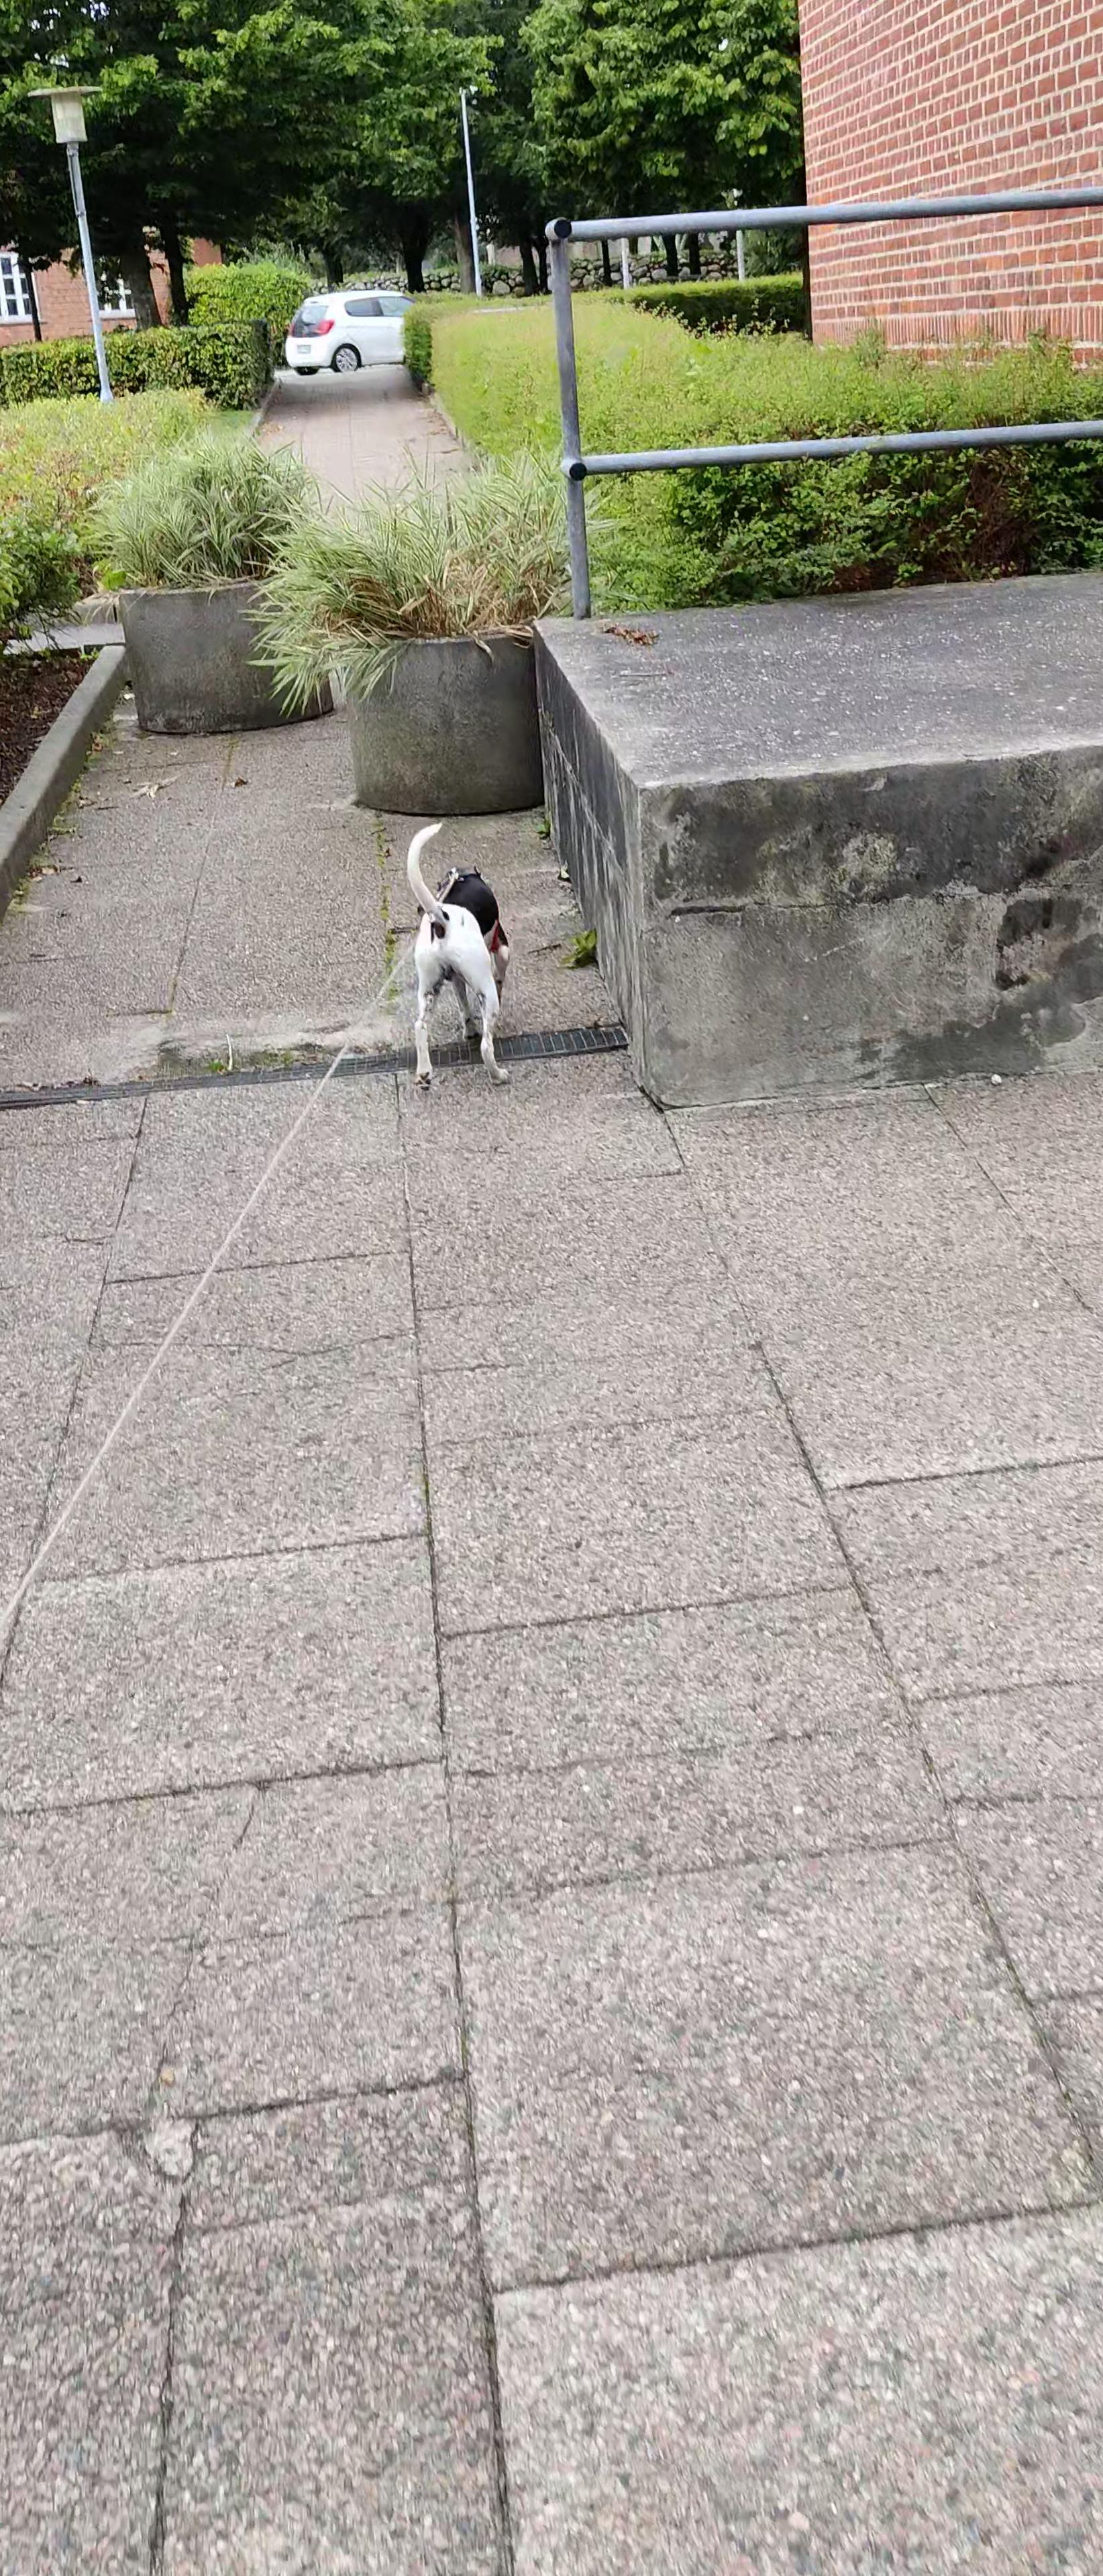Dog: (399, 816, 518, 1088)
